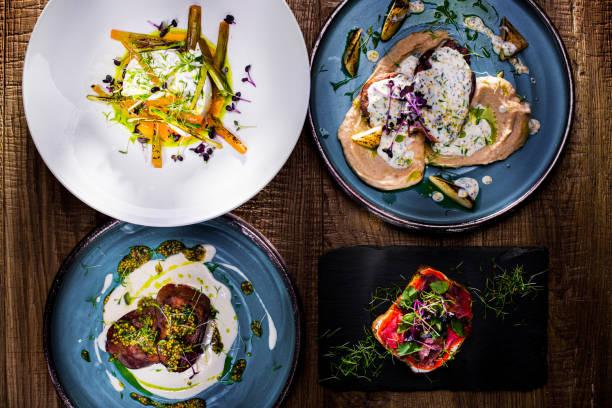Braised Crucian Carp: (21, 1, 309, 226), (303, 1, 567, 232), (42, 217, 300, 407), (317, 243, 546, 391)
